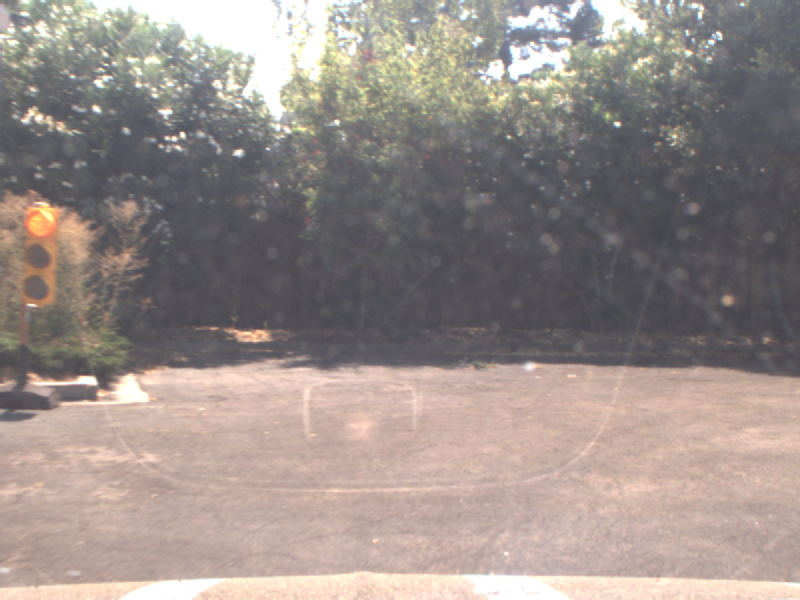red: (20, 202, 56, 308)
